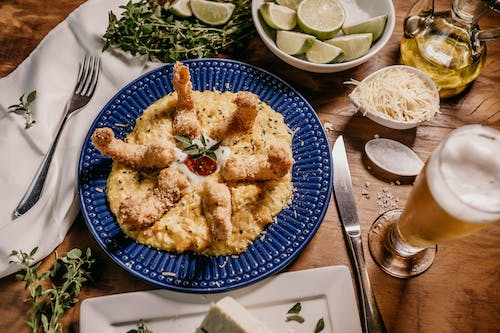alcohol: (367, 124, 500, 279)
knife: (331, 133, 390, 333)
